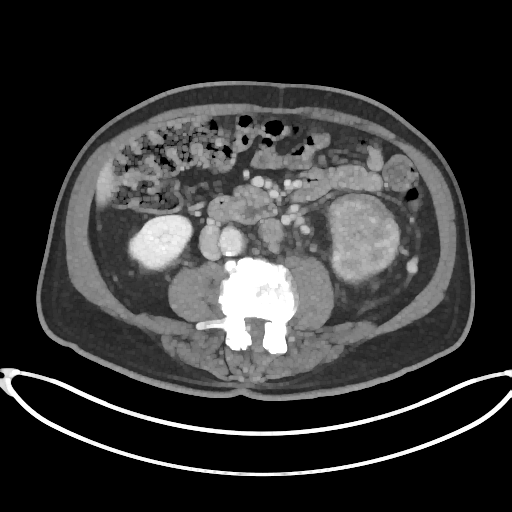Lesion: (328, 190, 403, 282)
